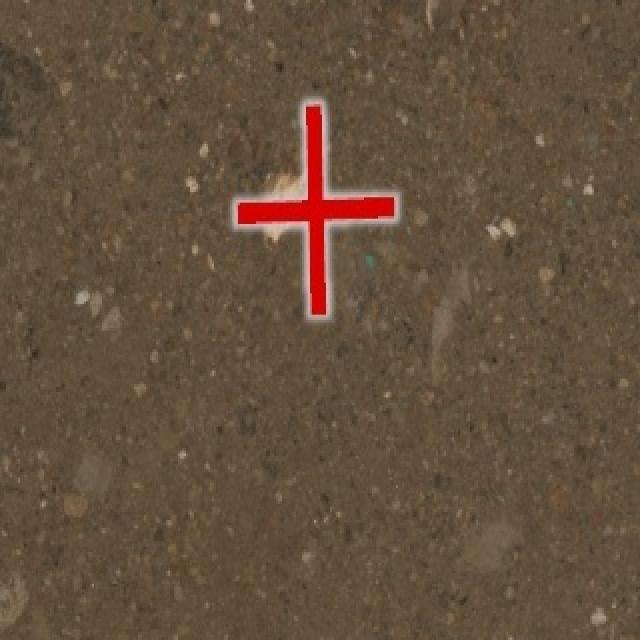x_marker: (235, 103, 395, 313)
